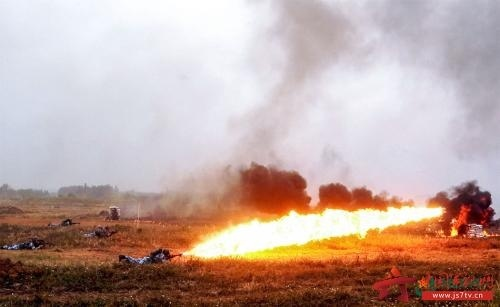fire: (183, 200, 477, 249)
